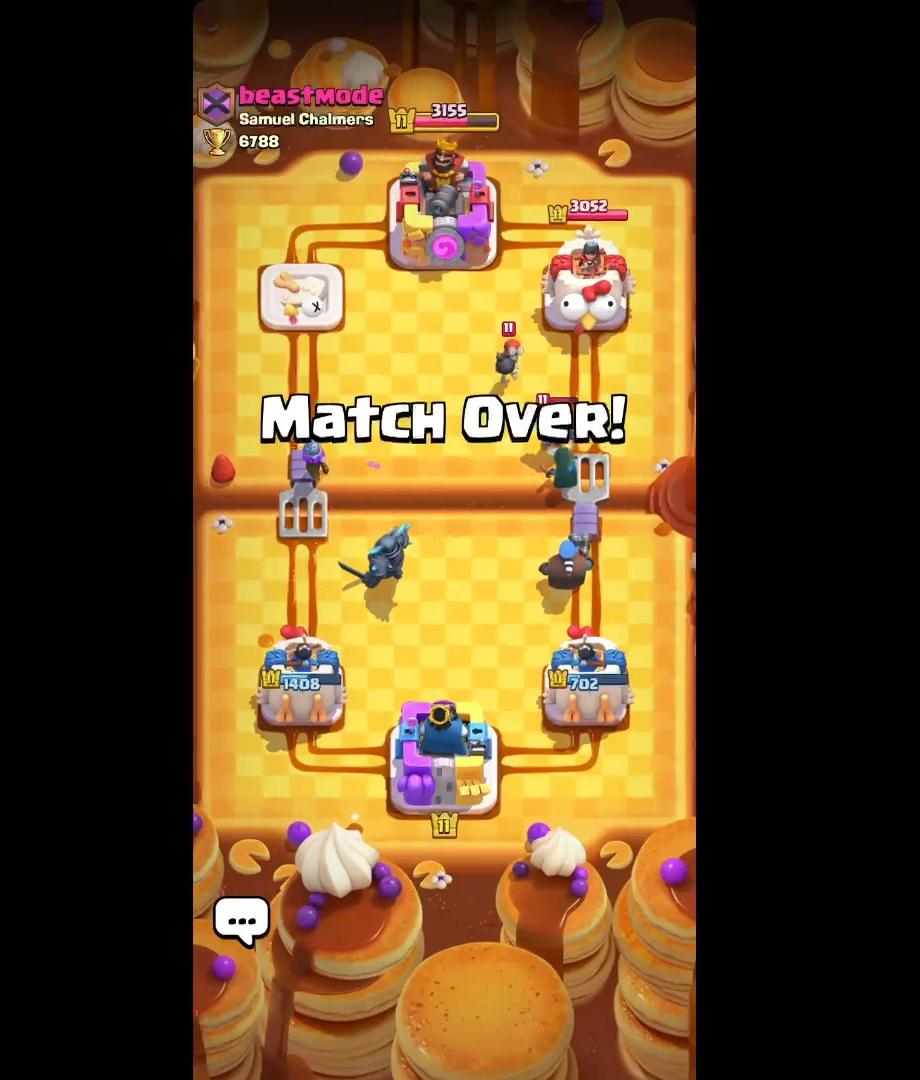Bomber: (492, 317, 525, 388)
